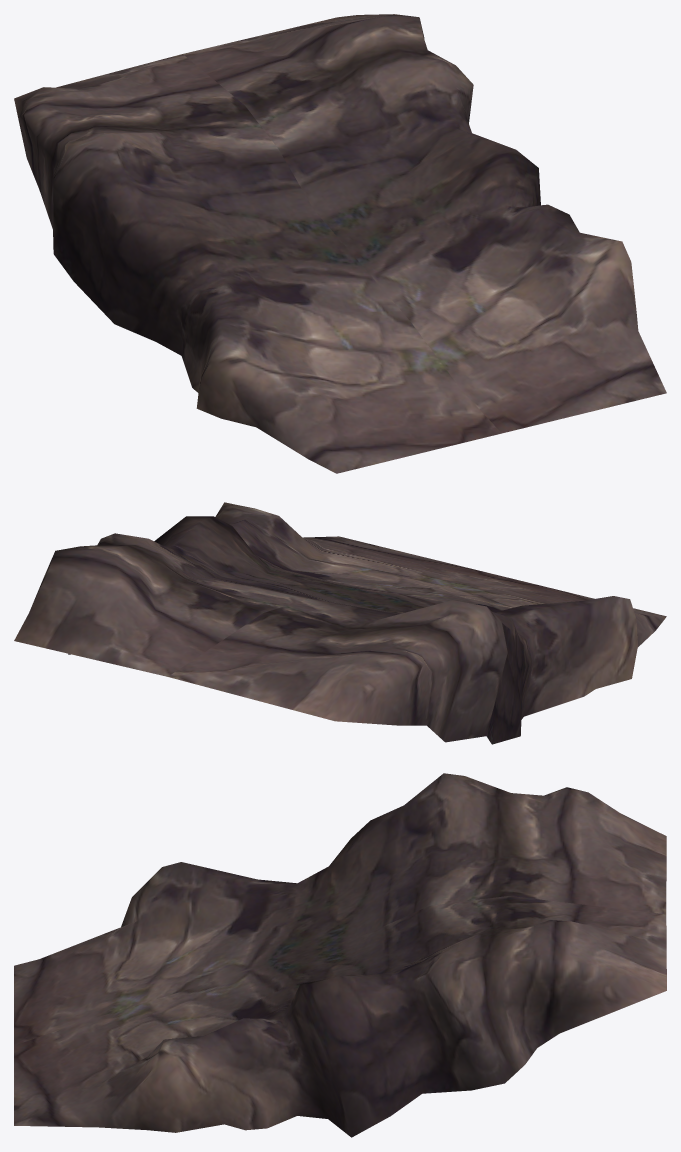
File: Stage_ZhuCheng_LouTi.FBX
The picture shows the model from 3 angles, top to bottom: view 1: azimuth 30°, elevation 25°; view 2: azimuth 150°, elevation 25°; view 3: azimuth 270°, elevation 25°; orthographic projection.
Parts seen in each view (by area): view 1: Stage_ZhuCheng_LouTi; view 2: Stage_ZhuCheng_LouTi; view 3: Stage_ZhuCheng_LouTi.
Boxes of the visible parts, left/top/right/bottom form: Stage_ZhuCheng_LouTi: left=14, top=14, right=666, bottom=473; Stage_ZhuCheng_LouTi: left=14, top=502, right=666, bottom=744; Stage_ZhuCheng_LouTi: left=14, top=773, right=666, bottom=1137.
Size of the model in its own units: 510 by 208 by 670.
